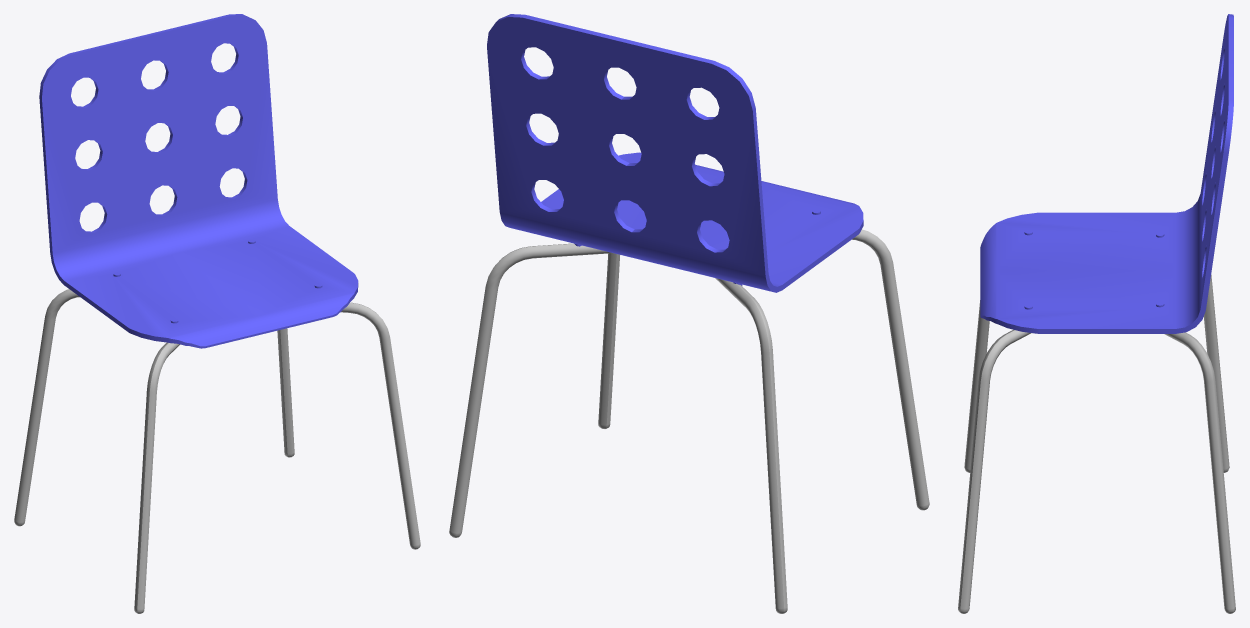
3 views of the same model, side by side, from view 1: azimuth 30°, elevation 25°; view 2: azimuth 150°, elevation 25°; view 3: azimuth 270°, elevation 25° (orthographic). The views are drawn at different scales.
Parts seen in each view (by area): view 1: Mesh10 Component_1_1 chair1 Model, Mesh18 Component_1_2 chair1 Model, Mesh22 Component_3_6 leg3 chair1 Model, Mesh20 Component_3_4 leg2 chair1 Model, Mesh1 Component_3_1 leg1 chair1 Model, Mesh23 Component_3_7 leg4 chair1 Model, Mesh2 Component_3_2 leg1 chair1 Model; view 2: Mesh10 Component_1_1 chair1 Model, Mesh18 Component_1_2 chair1 Model, Mesh24 Component_3_8 leg4 chair1 Model, Mesh2 Component_3_2 leg1 chair1 Model, Mesh19 Component_3_3 leg2 chair1 Model, Mesh21 Component_3_5 leg3 chair1 Model, Mesh20 Component_3_4 leg2 chair1 Model, Mesh22 Component_3_6 leg3 chair1 Model; view 3: Mesh18 Component_1_2 chair1 Model, Mesh10 Component_1_1 chair1 Model, Mesh21 Component_3_5 leg3 chair1 Model, Mesh23 Component_3_7 leg4 chair1 Model, Mesh19 Component_3_3 leg2 chair1 Model, Mesh1 Component_3_1 leg1 chair1 Model, Mesh22 Component_3_6 leg3 chair1 Model, Mesh24 Component_3_8 leg4 chair1 Model.
Boxes of the visible parts, x1,y1,x2,y2 form: Mesh10 Component_1_1 chair1 Model: [39, 34, 269, 348]; Mesh18 Component_1_2 chair1 Model: [150, 14, 358, 332]; Mesh22 Component_3_6 leg3 chair1 Model: [341, 302, 420, 549]; Mesh20 Component_3_4 leg2 chair1 Model: [14, 289, 79, 526]; Mesh1 Component_3_1 leg1 chair1 Model: [137, 343, 179, 613]; Mesh23 Component_3_7 leg4 chair1 Model: [280, 328, 294, 457]; Mesh2 Component_3_2 leg1 chair1 Model: [134, 342, 168, 613]; Mesh10 Component_1_1 chair1 Model: [617, 38, 863, 292]; Mesh18 Component_1_2 chair1 Model: [487, 14, 724, 259]; Mesh24 Component_3_8 leg4 chair1 Model: [449, 243, 612, 537]; Mesh2 Component_3_2 leg1 chair1 Model: [852, 229, 929, 510]; Mesh19 Component_3_3 leg2 chair1 Model: [715, 278, 784, 613]; Mesh21 Component_3_5 leg3 chair1 Model: [598, 253, 616, 428]; Mesh20 Component_3_4 leg2 chair1 Model: [737, 284, 787, 613]; Mesh22 Component_3_6 leg3 chair1 Model: [606, 254, 619, 428]; Mesh18 Component_1_2 chair1 Model: [980, 59, 1233, 333]; Mesh10 Component_1_1 chair1 Model: [980, 14, 1233, 280]; Mesh21 Component_3_5 leg3 chair1 Model: [960, 330, 1031, 613]; Mesh23 Component_3_7 leg4 chair1 Model: [1164, 332, 1233, 613]; Mesh19 Component_3_3 leg2 chair1 Model: [1205, 275, 1229, 472]; Mesh1 Component_3_1 leg1 chair1 Model: [964, 300, 987, 472]; Mesh22 Component_3_6 leg3 chair1 Model: [958, 329, 1014, 612]; Mesh24 Component_3_8 leg4 chair1 Model: [1184, 332, 1235, 612].
Bounding box in the file's own units: 25.7 × 39.67 × 20.69.
